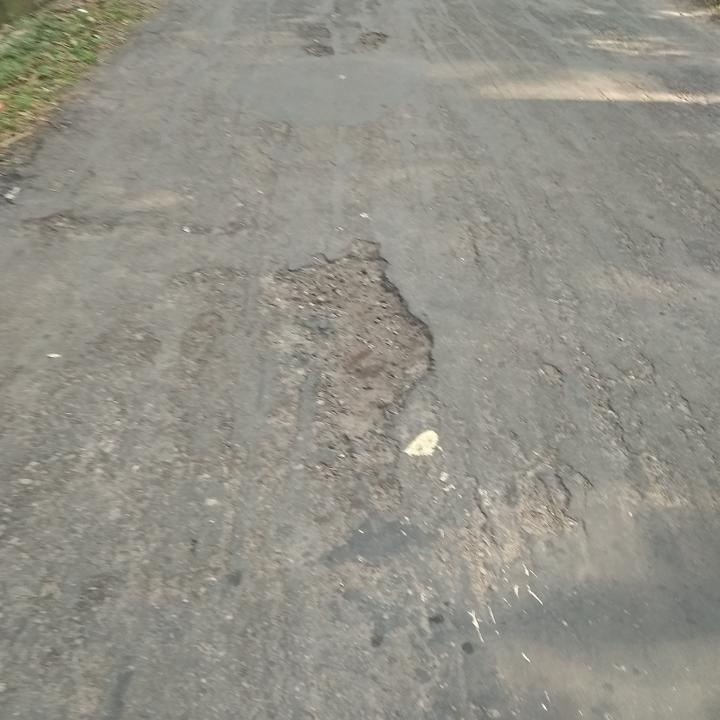pothole: (264, 241, 440, 456), (352, 26, 388, 55), (294, 21, 334, 41), (299, 43, 336, 59)
